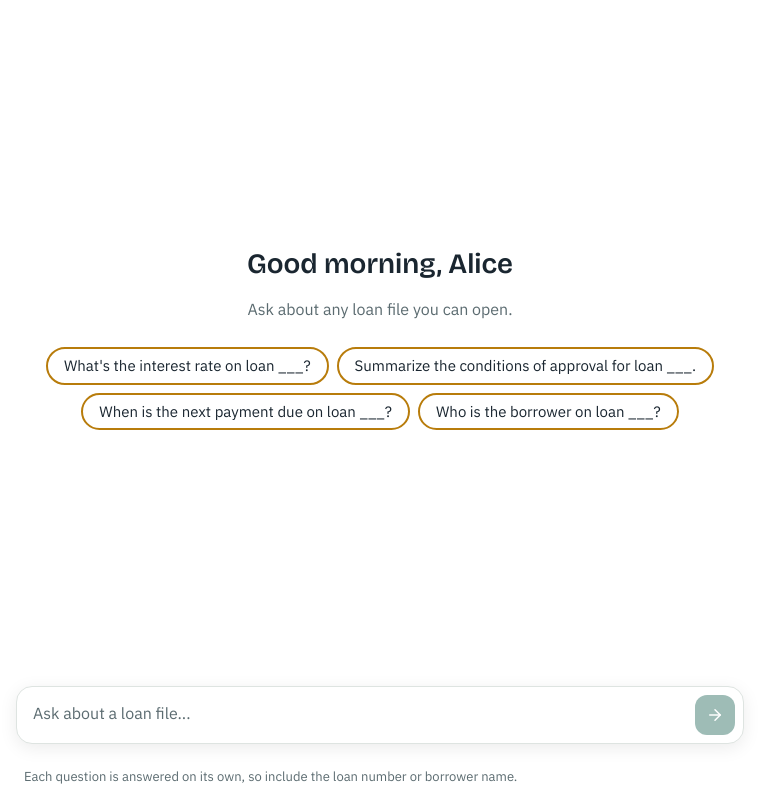
Scenario: chat (UI-F5 to UI-F13) › shows the neutral card for insufficient answers
This screenshot has width=761, height=801.
Type "anything" into the text box named "Your question". click: (356, 715)
box: x1=25 y1=695 x2=687 y2=735
Then press Enter
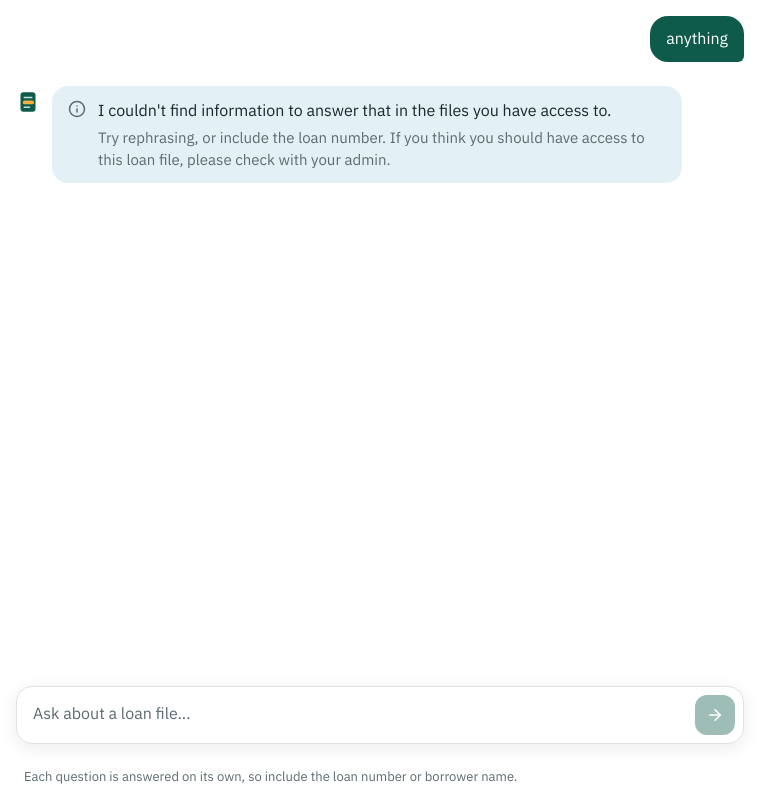
Expected: the element with test id "insufficient" is shown, x1=16 y1=86 x2=744 y2=183
